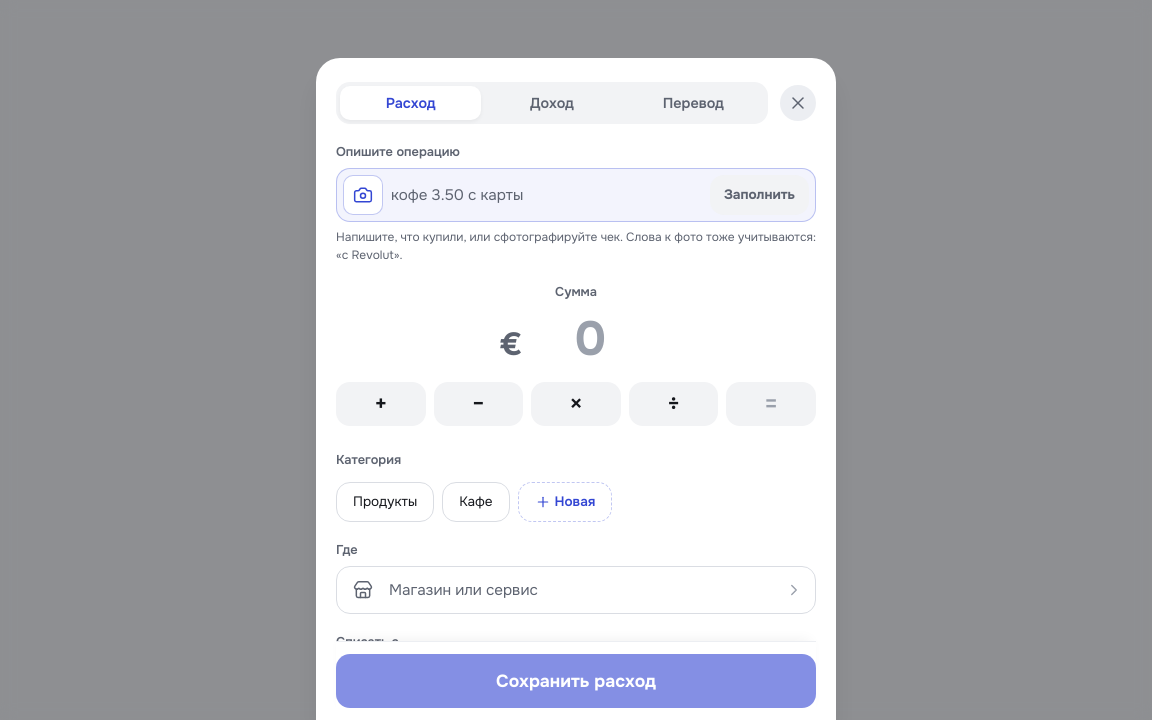
Test: QuickEntry in the transaction form › shows the idle row above the form with a disabled button until the phrase has two characters
Expected: the text "Напишите, что купили, или сфотографируйте чек. Слова к фото тоже учитываются: «с Revolut»." is shown, left=336, top=229, right=816, bottom=263
Expected: the button "Заполнить" is disabled, left=710, top=175, right=809, bottom=215
Step 1. Type " к " into the field labelled "Опишите операцию" → coordinates (546, 195), box left=391, top=185, right=702, bottom=205
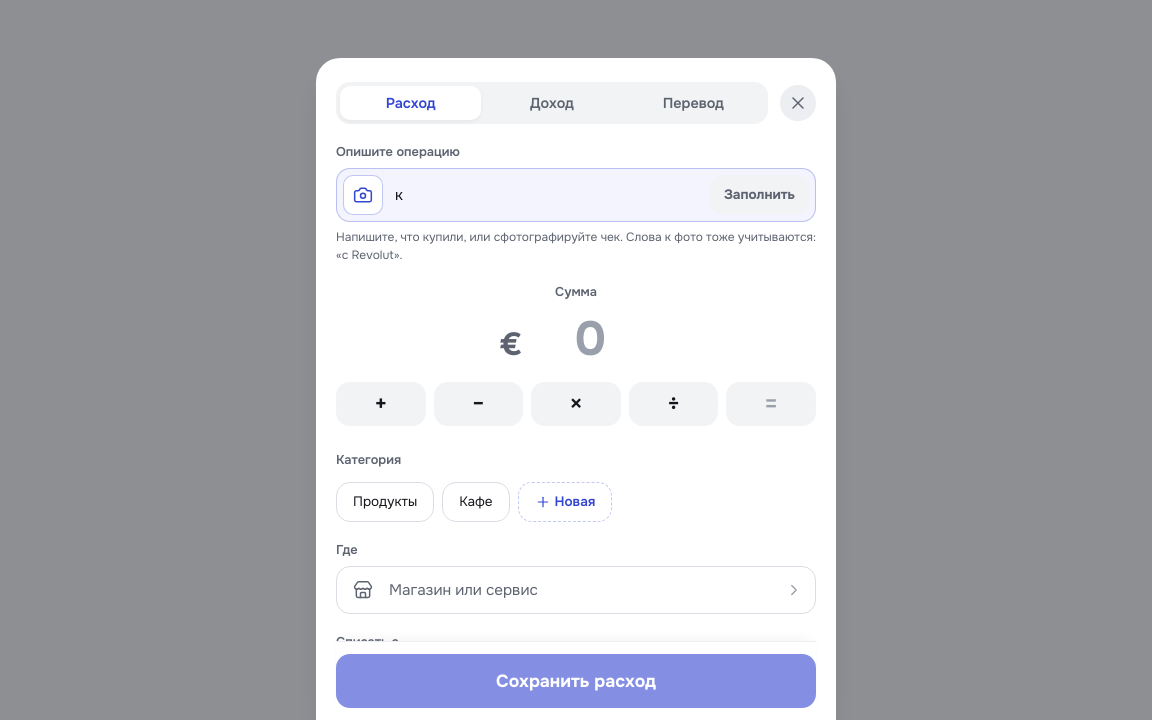
Expected: the button "Заполнить" is disabled, left=710, top=175, right=809, bottom=215
Step 2. Replace the text in the field labelled "Опишите операцию" with "кофе" → coordinates (546, 195), box left=391, top=185, right=702, bottom=205
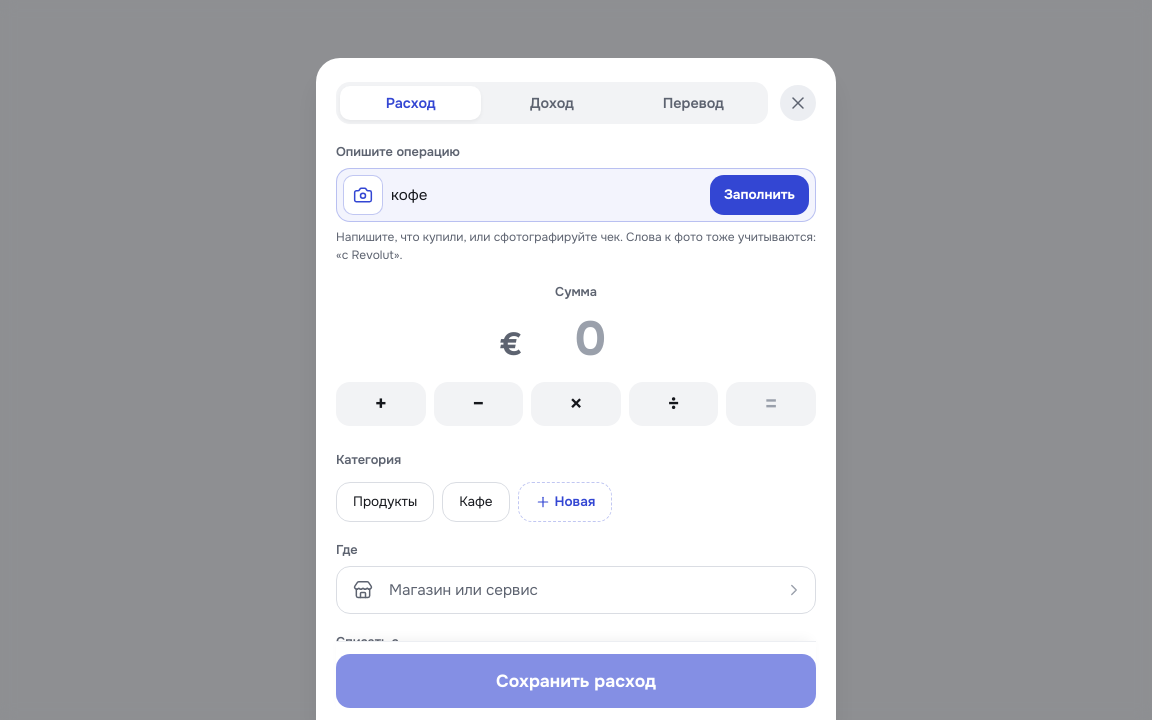
Now the button "Заполнить" is enabled, box left=710, top=175, right=809, bottom=215
